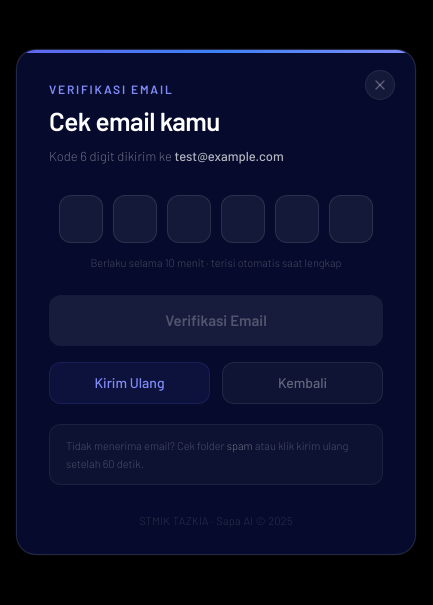
Test: VerifyEmailPage › shows error message on failed verification
The width and height of the screenshot is (433, 605).
In the 1st field: (81, 219) [59,195,103,243], type "1"
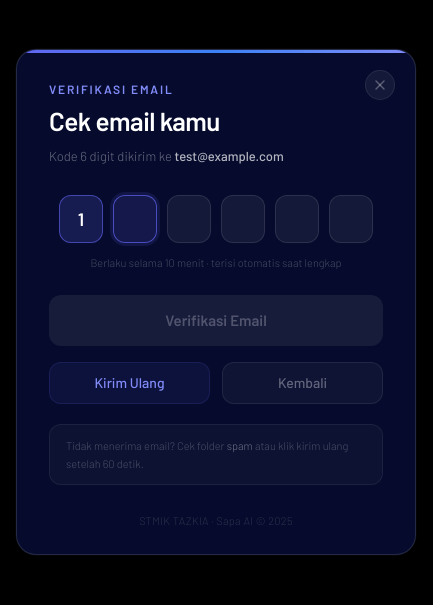
In the 2nd field: (135, 219) [113,195,157,243], type "1"
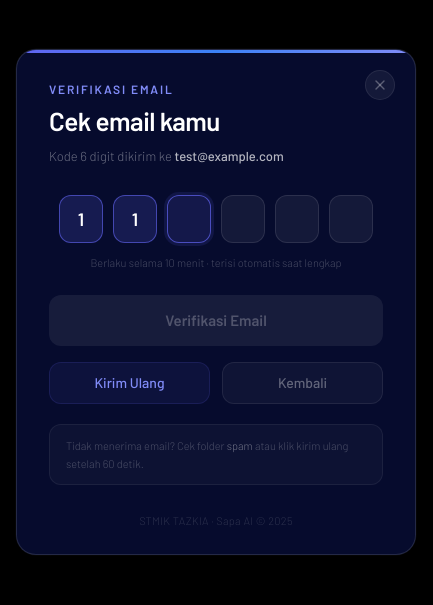
In the 3rd field: (189, 219) [167,195,211,243], type "1"
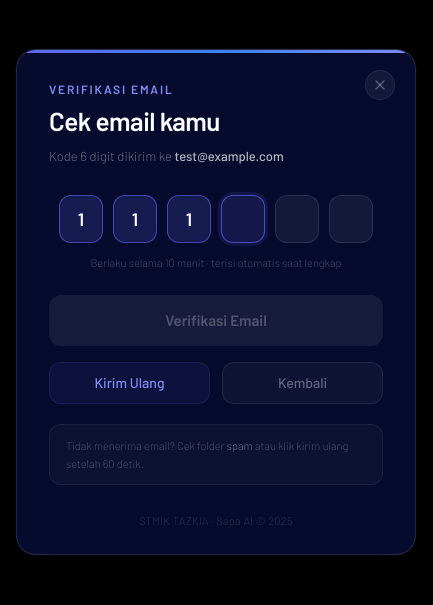
In the 4th field: (243, 219) [221,195,265,243], type "1"
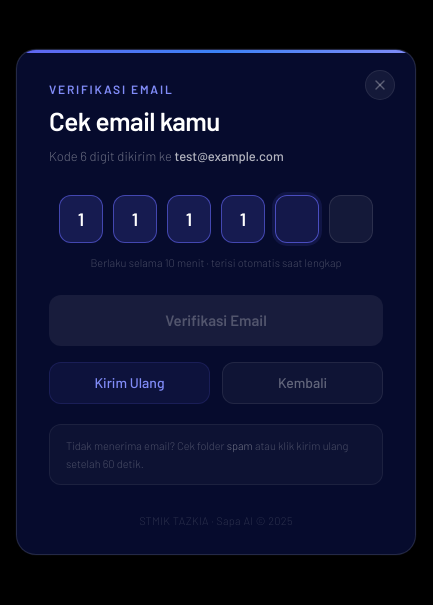
In the 5th field: (297, 219) [275,195,319,243], type "1"
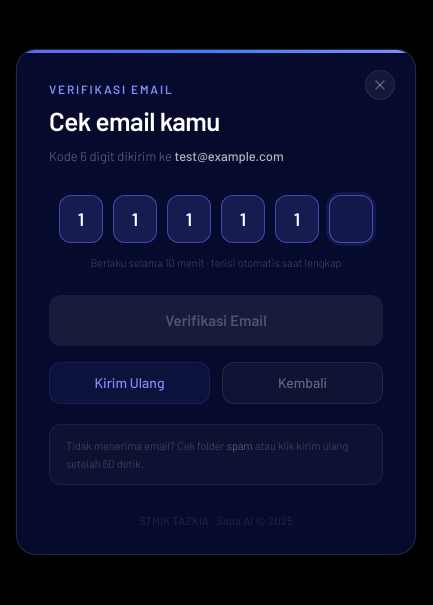
In the 6th field: (351, 219) [329,195,373,243], type "1"
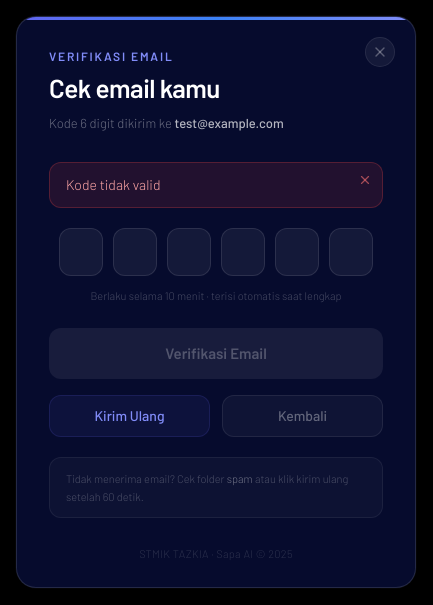
Result: the text "Kode tidak valid" is shown at [49,162,383,208]
